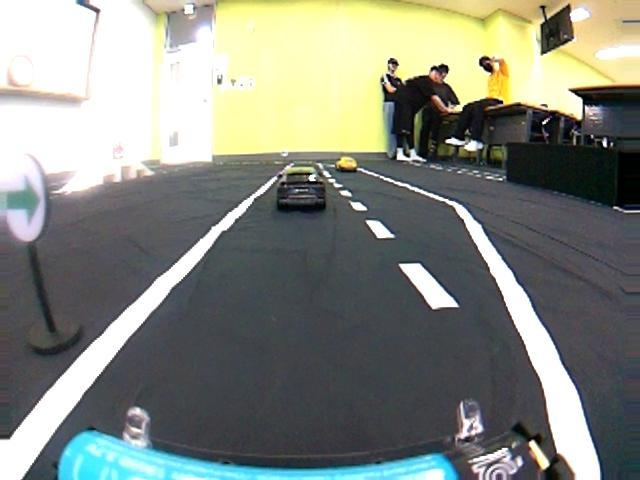car: (273, 164, 330, 212), (335, 156, 357, 172)
sign_right: (2, 154, 51, 242)
straight: (4, 206, 640, 480)
